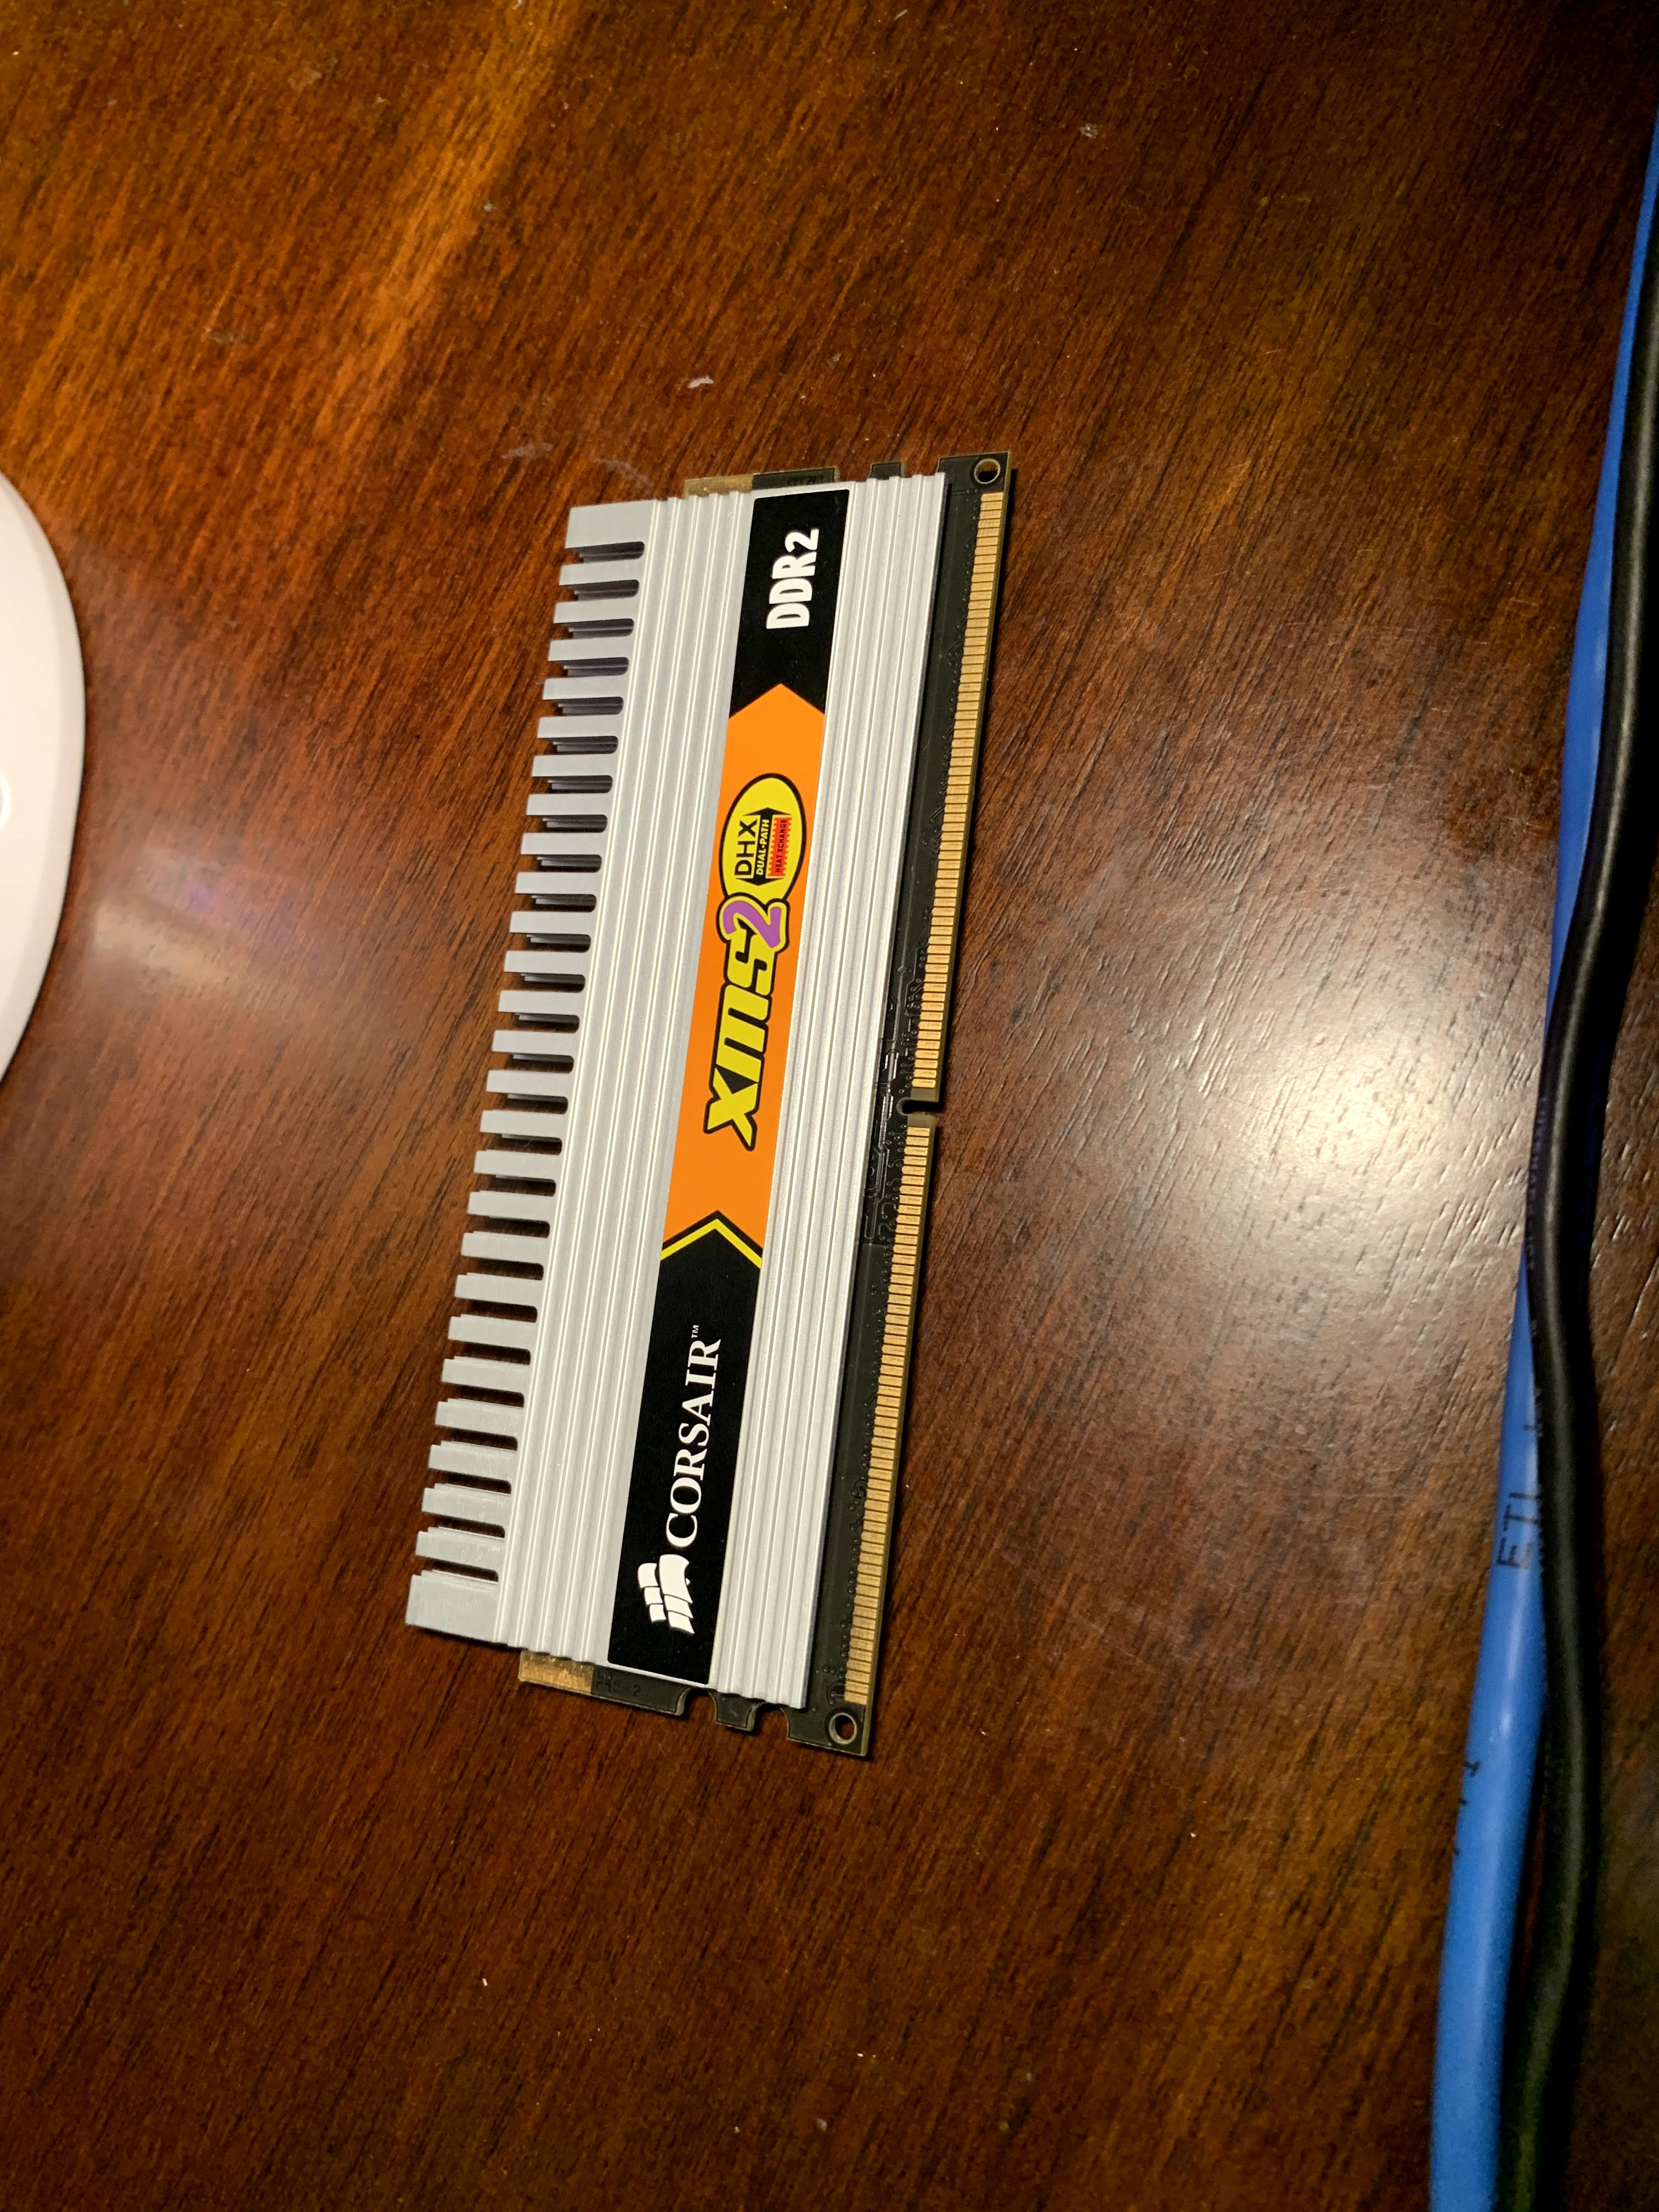Space-debris-medium: (413, 434, 1016, 1777)
